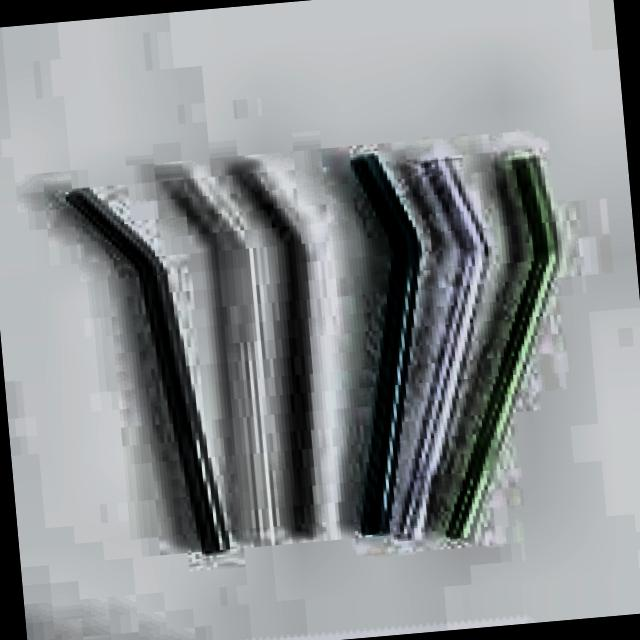plastic straw: (65, 188, 223, 551), (445, 156, 556, 536), (396, 159, 488, 535), (351, 154, 419, 533)
